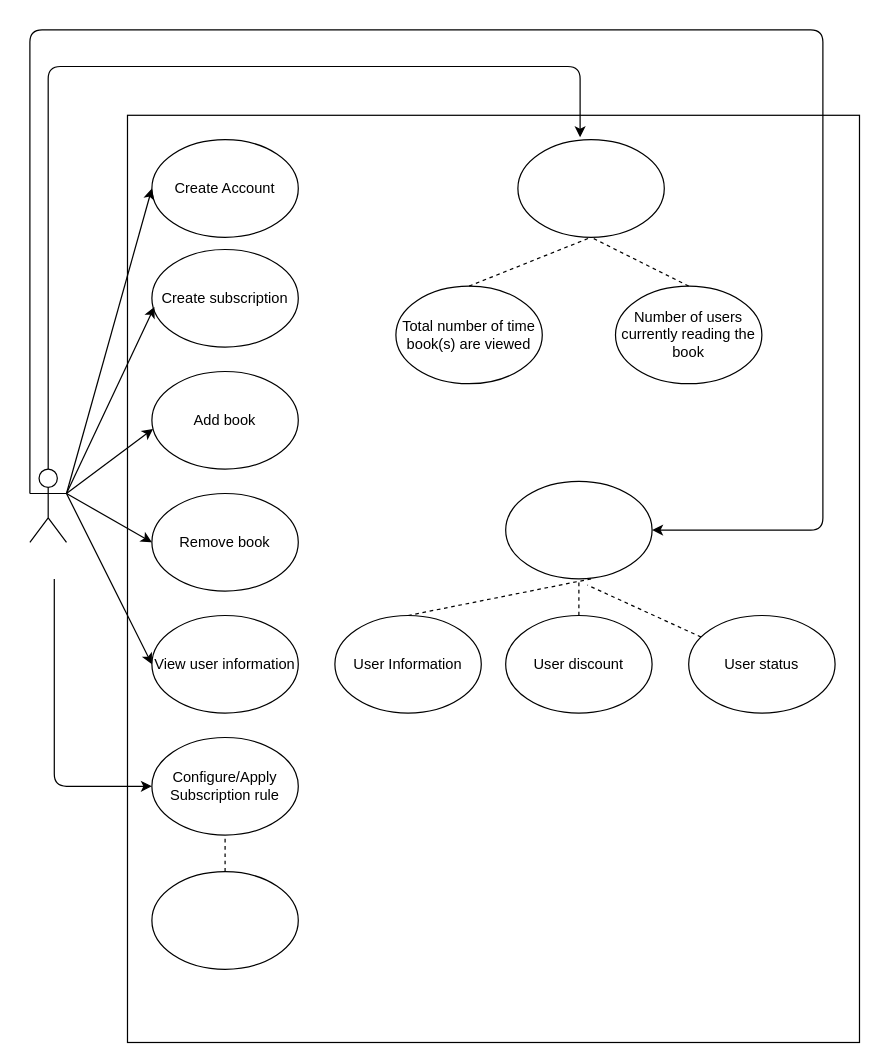
The diagram is 881 pixels wide and 1064 high, and some of its shapes have lost their labels. Here are the shapes that lost their labels. From the top down, the box of each, then its label:
(517, 138, 664, 237): View book information
(29, 468, 66, 542): Actor
(504, 480, 652, 579): User Management
(151, 870, 298, 969): Guest, Silver, Gold, Platinum User
